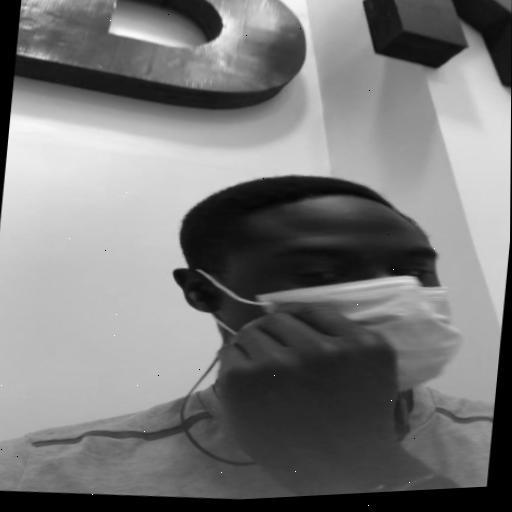mask: (188, 198, 474, 410)
